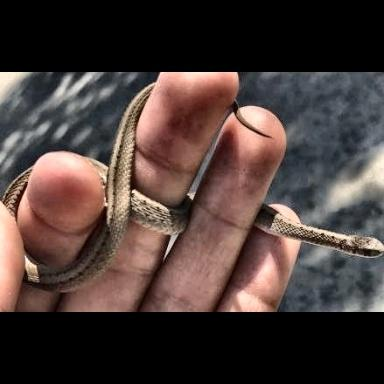snake: (0, 73, 384, 312)
